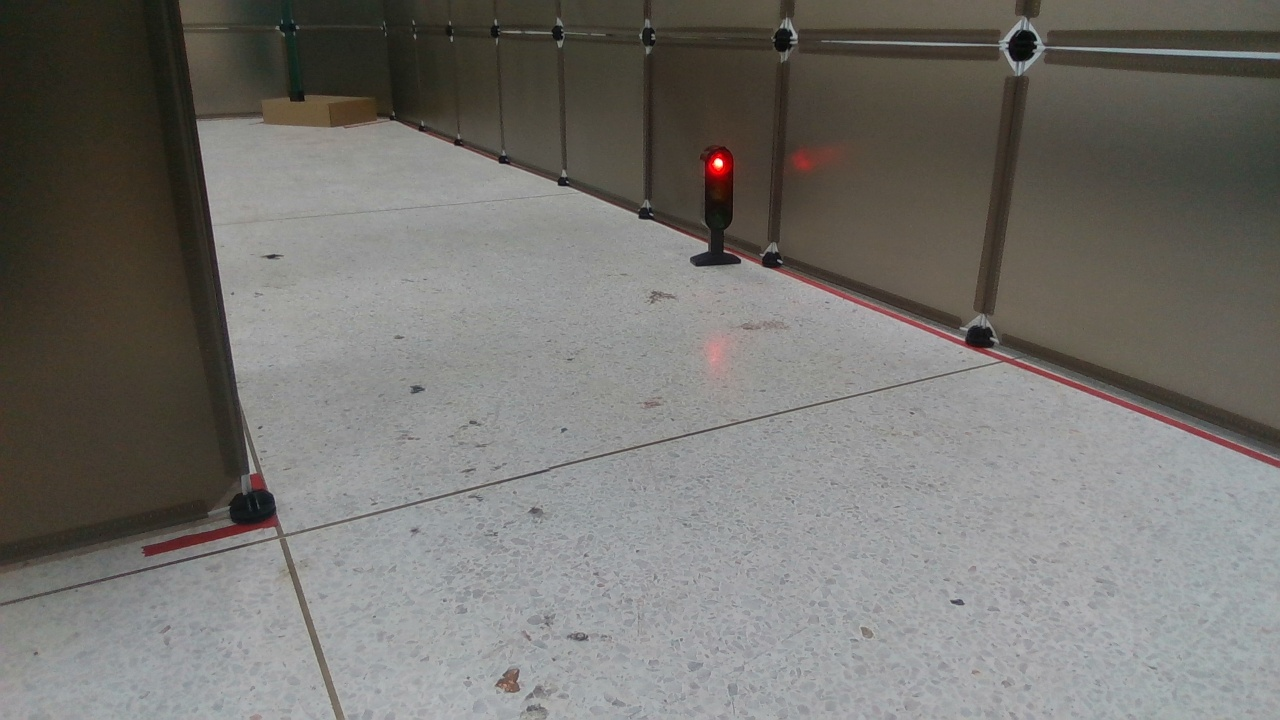Red traffic light: (688, 149, 746, 268)
